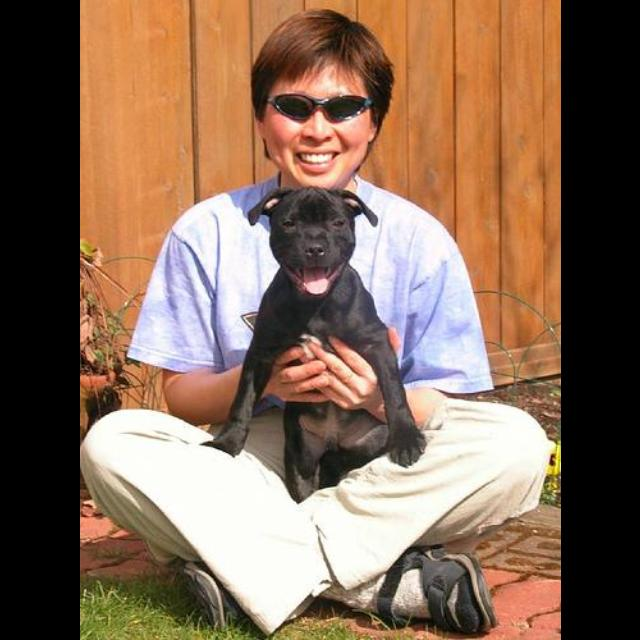staffford: (200, 186, 429, 504)
